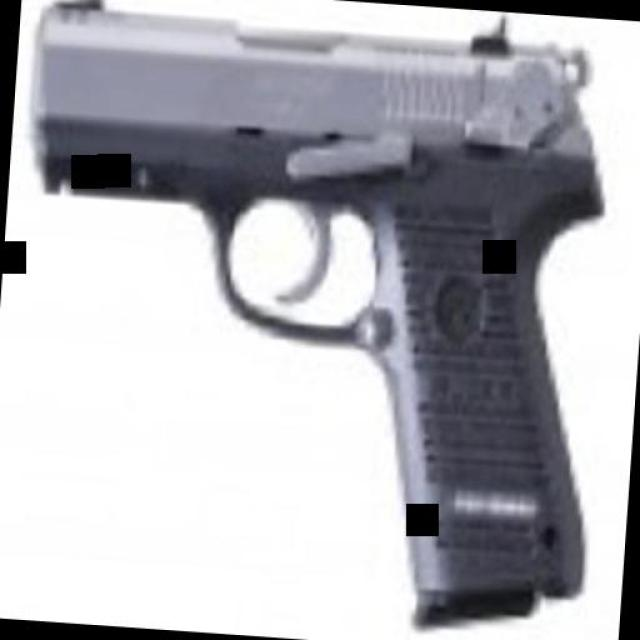gun: (0, 0, 624, 635)
